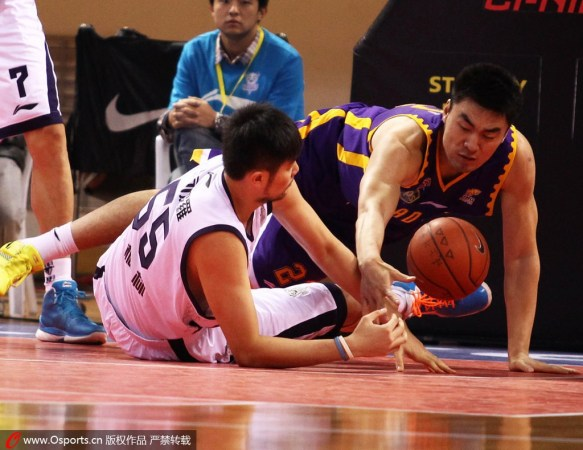fall: (61, 106, 399, 377)
